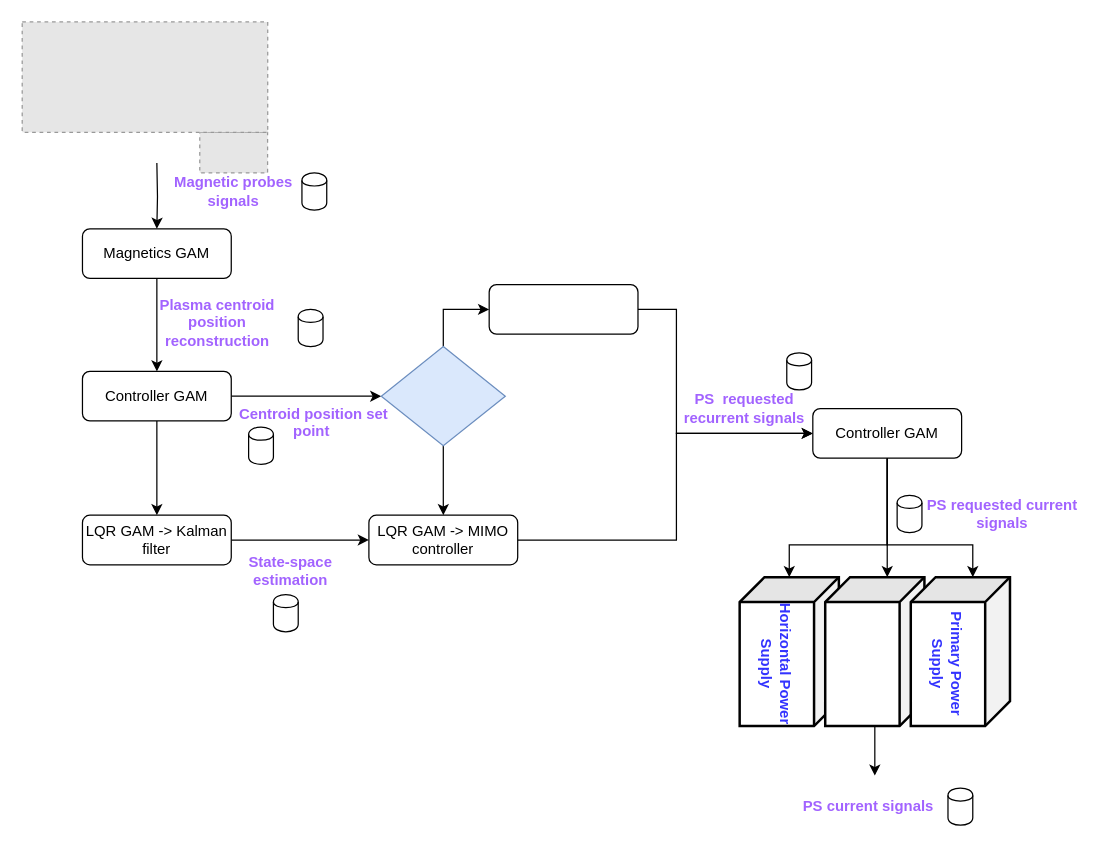
The diagram is 1105 pixels wide and 847 high, and some of its shapes have lost their labels. Grey dashed boxes stand in for pictures. Each missing label, with the centre of its shape:
"PID GAM" belongs at (x=563, y=308).
"PID or MIMO" belongs at (x=442, y=395).
"Vertical Power Supply" belongs at (x=874, y=651).
